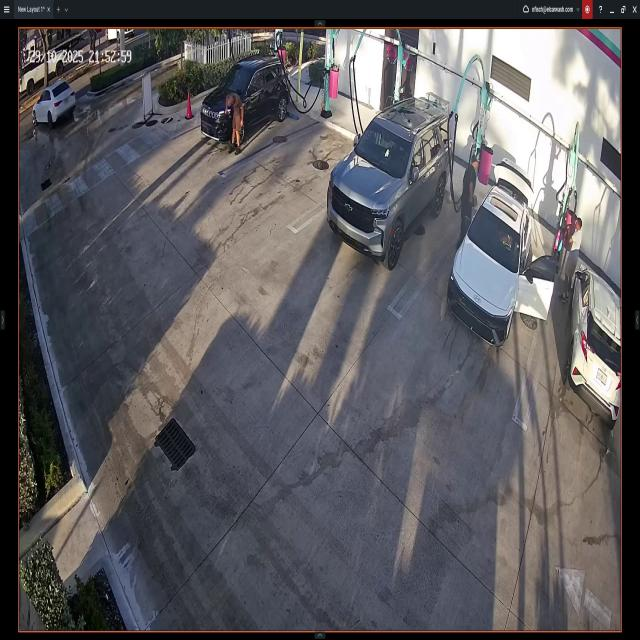Car: (326, 98, 451, 261), (450, 161, 555, 354), (202, 54, 288, 152), (571, 270, 621, 430), (28, 80, 75, 126)
